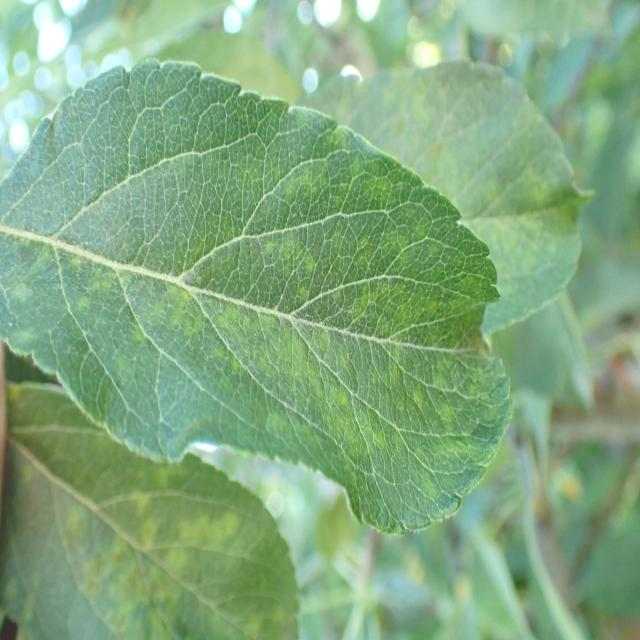scab: (4, 101, 494, 519), (0, 394, 315, 638), (360, 42, 607, 300)
